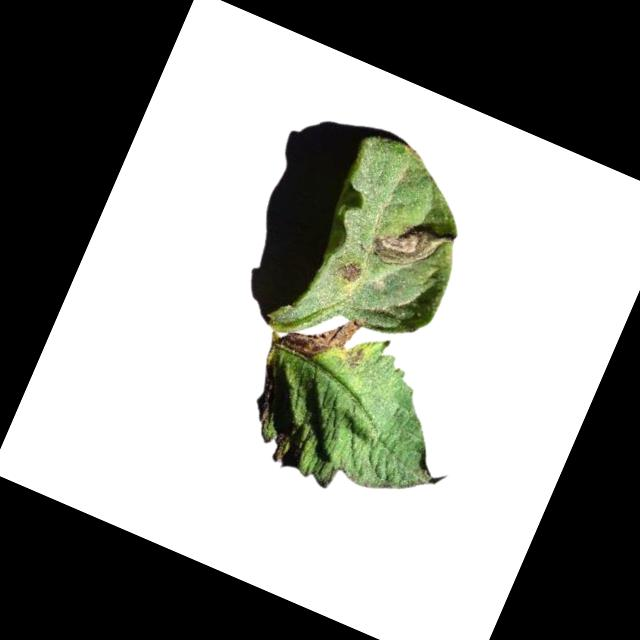Early_blight: (277, 289, 367, 375), (366, 208, 446, 279), (333, 255, 365, 286), (268, 430, 294, 465)
